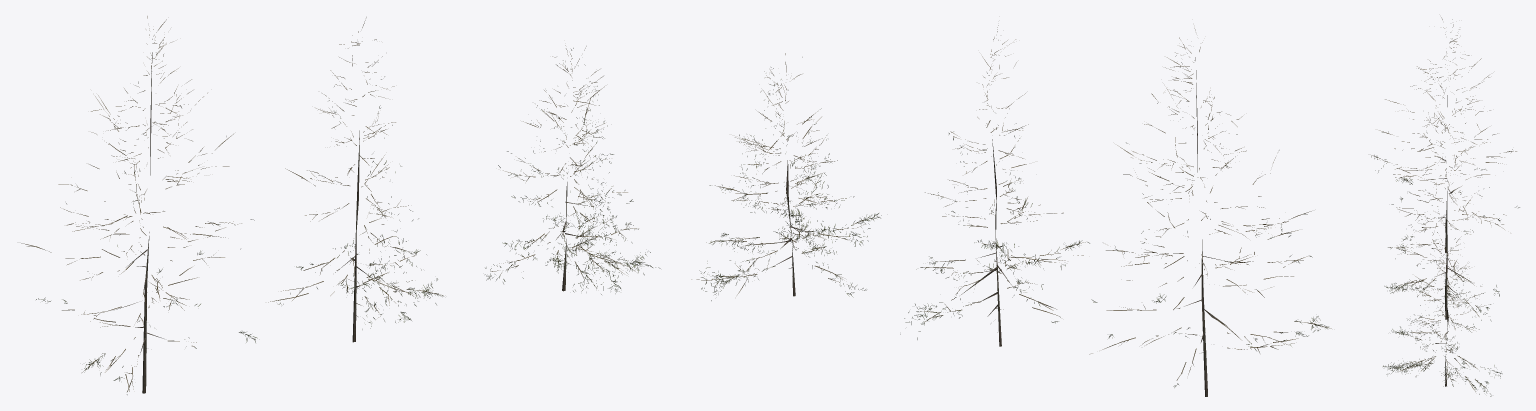
Rendered from fir_sapling_medium.lod.glb.
3 renders of one model, left to right at view 1: azimuth 30°, elevation 25°; view 2: azimuth 150°, elevation 25°; view 3: azimuth 270°, elevation 25°, orthographic. The views are drawn at different scales.
Visible parts, largest first — view 1: fir_sapling_medium_a_LOD0; view 2: fir_sapling_medium_a_LOD0; view 3: fir_sapling_medium_a_LOD0.
Part boxes in pixels (x1,y1,x2,y2): fir_sapling_medium_a_LOD0: (21, 16, 660, 394); fir_sapling_medium_a_LOD0: (691, 25, 1331, 396); fir_sapling_medium_a_LOD0: (1371, 17, 1519, 396).
Bounding box in the file's own units: 14.37 × 8.56 × 4.94.
3 materials, 3 textured.
